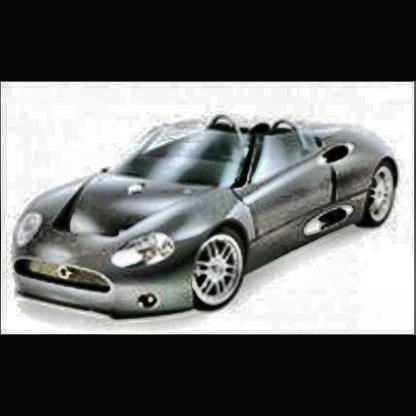Spyker C8 Convertible 2009: (10, 109, 404, 328)
